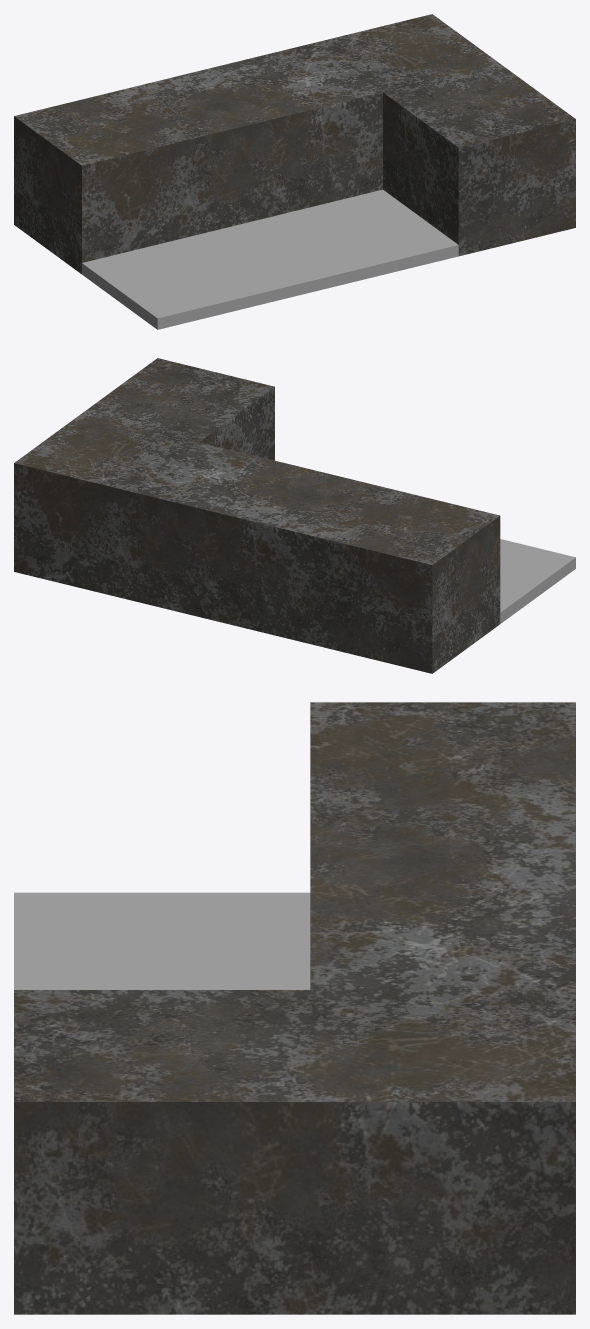
Rendered from SewerRoom5.fbx.
3 renders of one model, top to bottom at view 1: azimuth 30°, elevation 25°; view 2: azimuth 150°, elevation 25°; view 3: azimuth 270°, elevation 25°, orthographic. The views are drawn at different scales.
Parts seen in each view (by area): view 1: SewerRoom5; view 2: SewerRoom5; view 3: SewerRoom5.
Boxes of the visible parts, x1=… form: SewerRoom5: x1=14, y1=14, x2=575, y2=329; SewerRoom5: x1=14, y1=358, x2=575, y2=673; SewerRoom5: x1=14, y1=702, x2=575, y2=1314.
Size of the model in its own units: 8.02 by 1.99 by 4.77.
2 materials, 1 textured.
